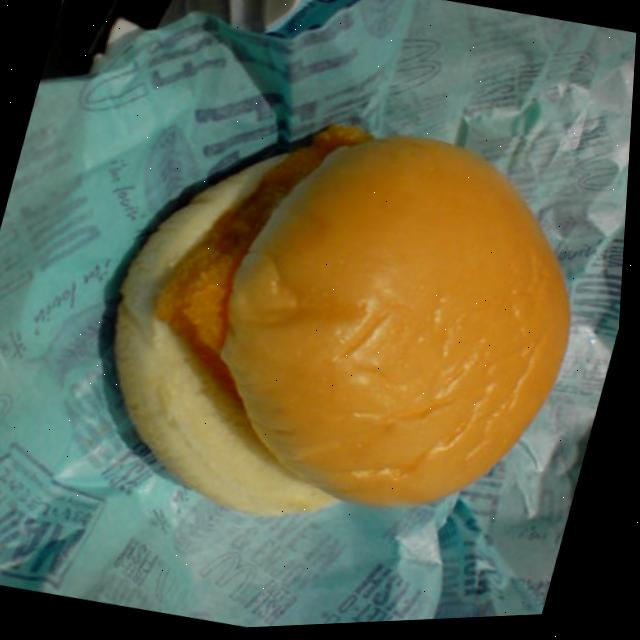汉堡快餐: (77, 77, 633, 585)
